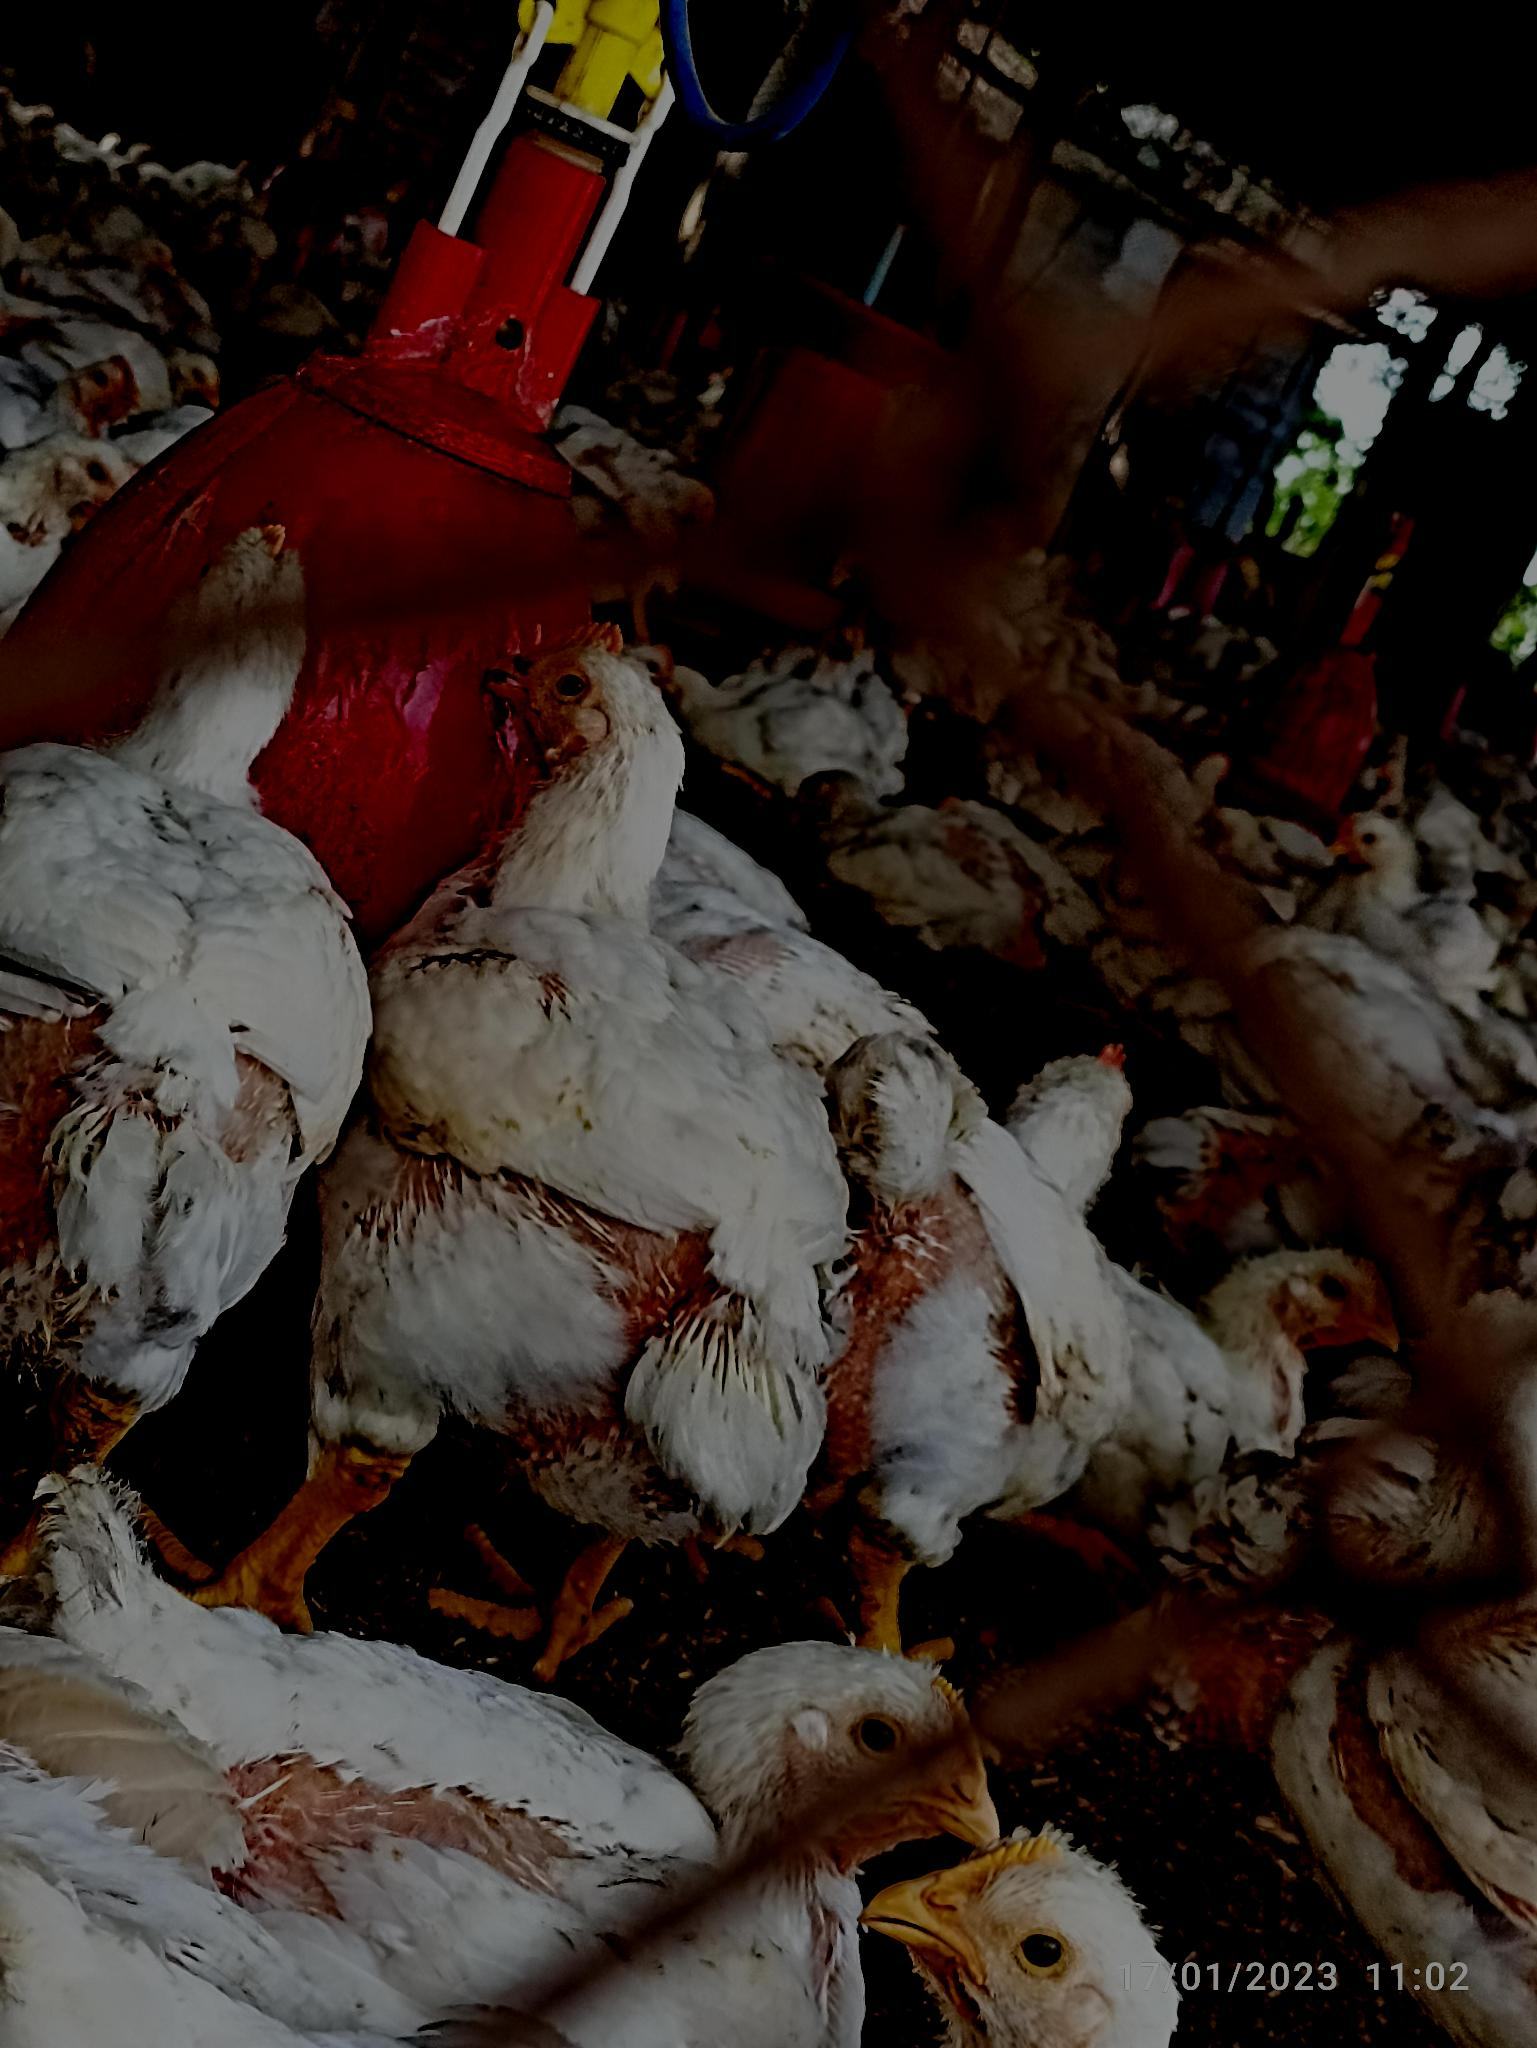Pollos: (378, 628, 794, 1561), (26, 1607, 1037, 1916), (31, 536, 316, 1343), (780, 1043, 1159, 1420), (789, 754, 1083, 991), (1120, 1230, 1421, 1459), (1305, 800, 1427, 931)
